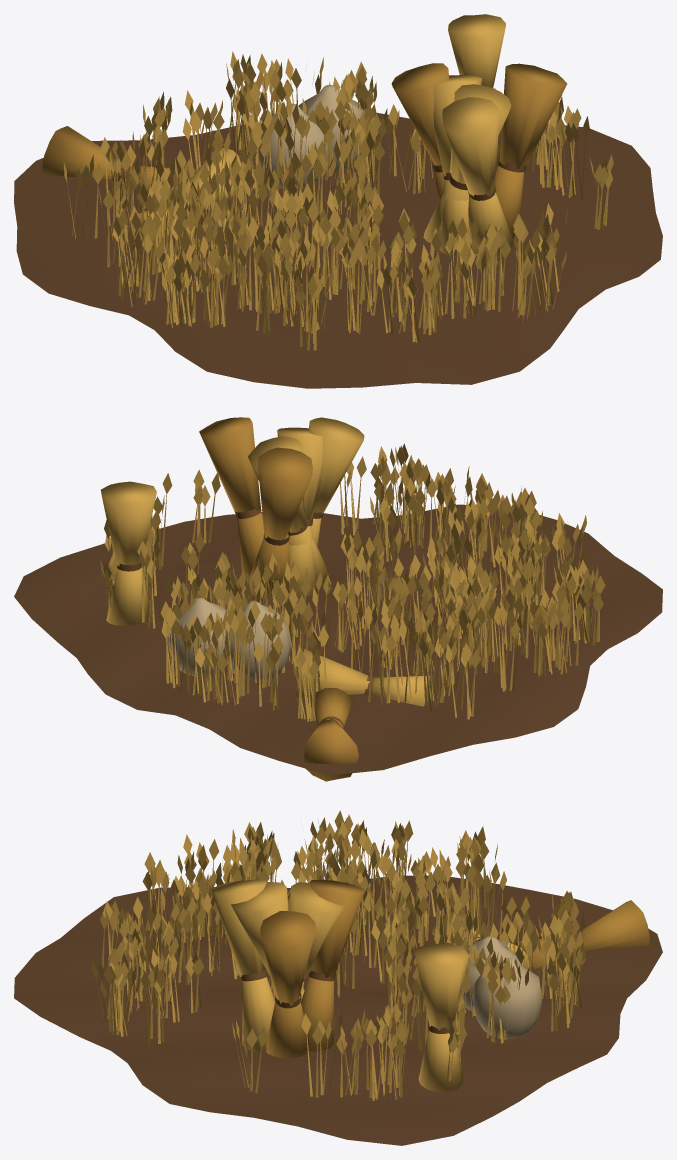
Rendered from resource_harvest_grain.glb.
3 renders of one model, top to bottom at view 1: azimuth 30°, elevation 25°; view 2: azimuth 150°, elevation 25°; view 3: azimuth 270°, elevation 25°, orthographic. The views are drawn at different scales.
Parts seen in each view (by area): view 1: Soil, GrainField, Sheaf, Sheaf.004, Sheaf.007, Sheaf.001, Sheaf.006, Sheaf.003, Sheaf.002, Sack, Sack.001, Sheaf.005; view 2: Soil, GrainField, Sheaf.007, Sheaf, Sheaf.001, Sheaf.006, Sheaf.004, Sheaf.005, Sheaf.002, Sack, Sack.001, Sheaf.003; view 3: Soil, GrainField, Sheaf, Sheaf.007, Sheaf.004, Sheaf.001, Sack.001, Sheaf.006, Sheaf.002, Sheaf.003, Sack, Sheaf.005.
Part boxes in pixels (box(x1,y1,x2,y2)): Soil: box(14, 112, 662, 388); GrainField: box(63, 51, 613, 350); Sheaf: box(495, 63, 567, 238); Sheaf.004: box(442, 97, 514, 257); Sheaf.007: box(448, 14, 505, 165); Sheaf.001: box(391, 63, 449, 201); Sheaf.006: box(42, 126, 187, 190); Sheaf.003: box(433, 75, 482, 255); Sheaf.002: box(423, 84, 511, 243); Sack: box(257, 104, 329, 188); Sack.001: box(298, 85, 363, 170); Sheaf.005: box(128, 148, 253, 238); Soil: box(14, 504, 662, 775); GrainField: box(100, 443, 605, 721); Sheaf.007: box(101, 481, 156, 625); Sheaf: box(199, 417, 263, 577); Sheaf.001: box(249, 447, 312, 598); Sheaf.006: box(304, 688, 358, 781); Sheaf.004: box(308, 417, 364, 546); Sheaf.005: box(295, 649, 430, 706); Sheaf.002: box(277, 427, 322, 597); Sack: box(225, 600, 290, 679); Sack.001: box(167, 598, 227, 676); Sheaf.003: box(248, 436, 331, 586); Soil: box(14, 875, 662, 1145); GrainField: box(91, 810, 585, 1100); Sheaf: box(260, 911, 316, 1058); Sheaf.007: box(414, 942, 469, 1092); Sheaf.004: box(212, 879, 274, 1051); Sheaf.001: box(301, 880, 364, 1051); Sack.001: box(472, 958, 541, 1039); Sheaf.006: box(514, 900, 649, 968); Sheaf.002: box(231, 882, 304, 1001); Sheaf.003: box(271, 882, 345, 1001); Sack: box(460, 936, 523, 1010); Sheaf.005: box(432, 911, 529, 969).
Size of the model in its own units: 5.45 by 1.61 by 5.5.
